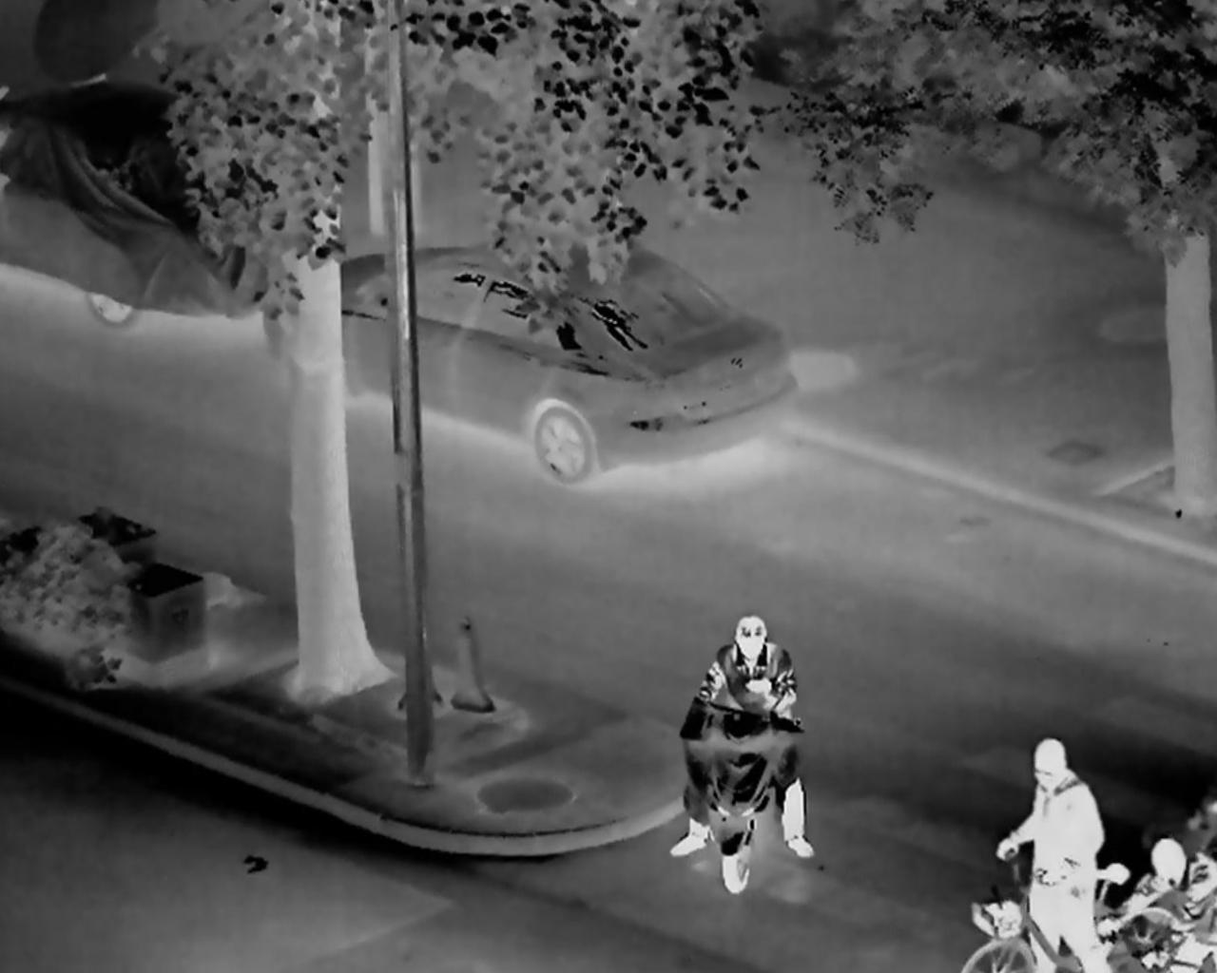person: (666, 615, 830, 893), (995, 727, 1119, 973), (1101, 831, 1217, 973)
